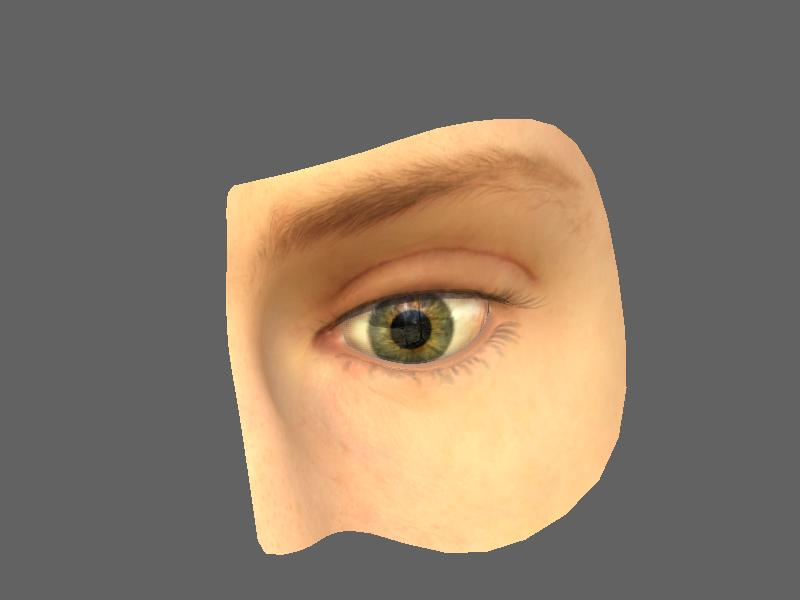iris: (365, 297, 454, 361)
